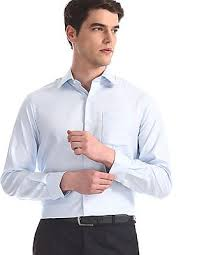F_belt: (34, 212, 141, 230)
F_dress pants: (33, 212, 136, 255)
F_shirt: (4, 69, 180, 218)
